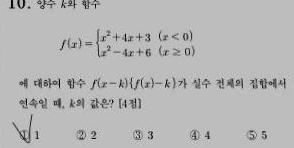choice: (13, 122, 31, 144)
not-choice: (73, 127, 87, 141), (130, 128, 144, 142), (244, 128, 258, 142), (188, 128, 201, 141)
